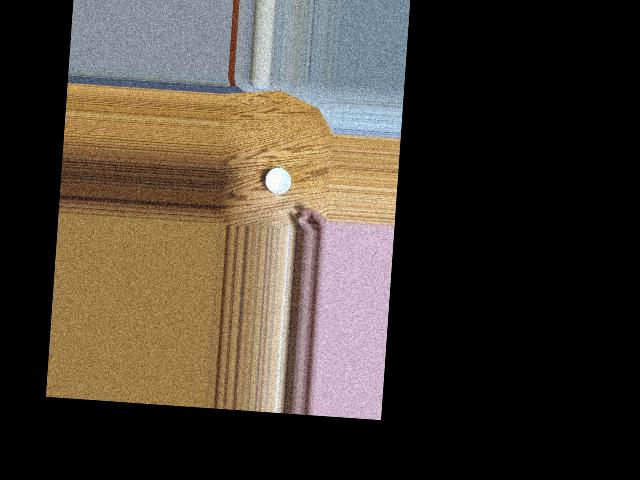cotage: (264, 164, 294, 199)
